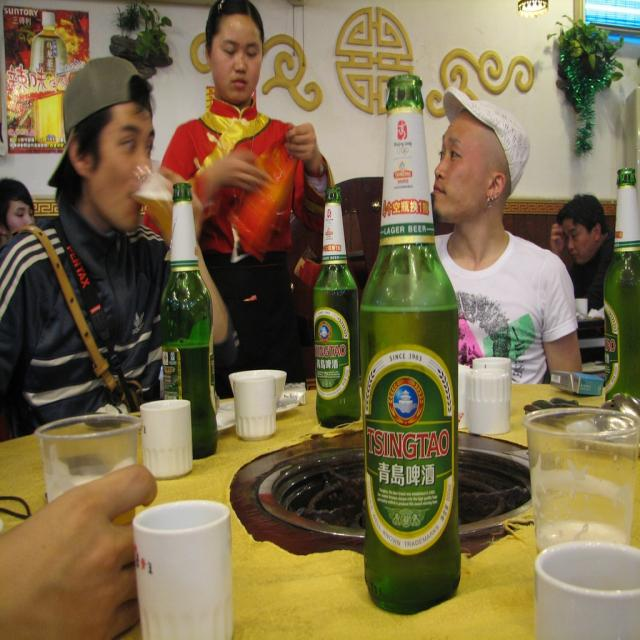tsingtao: (364, 345, 458, 559), (315, 307, 353, 403)
